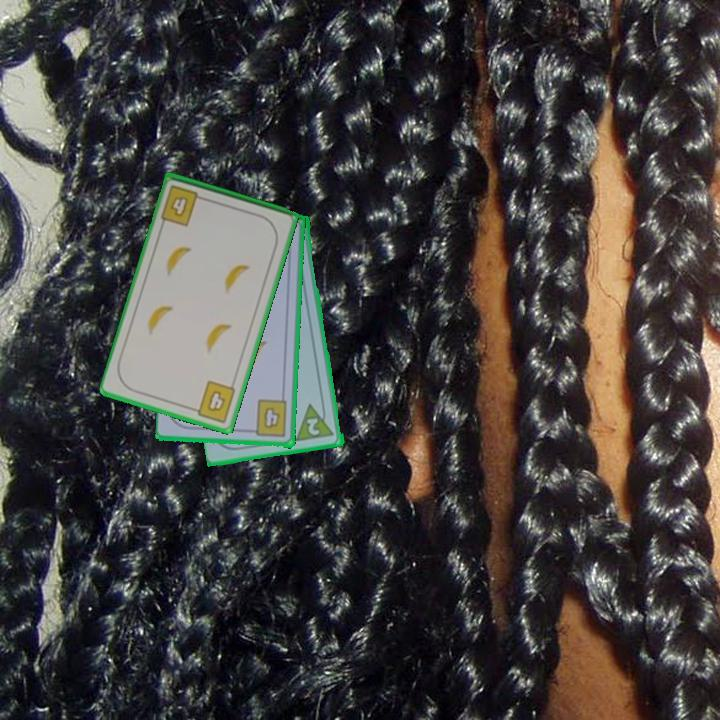2p: (304, 415, 323, 438)
4b: (187, 377, 239, 426), (157, 182, 209, 229), (246, 397, 290, 440)
